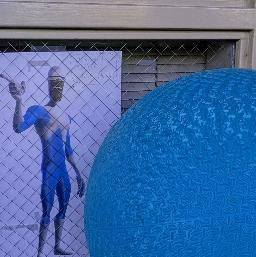algae: (84, 68, 256, 257)
